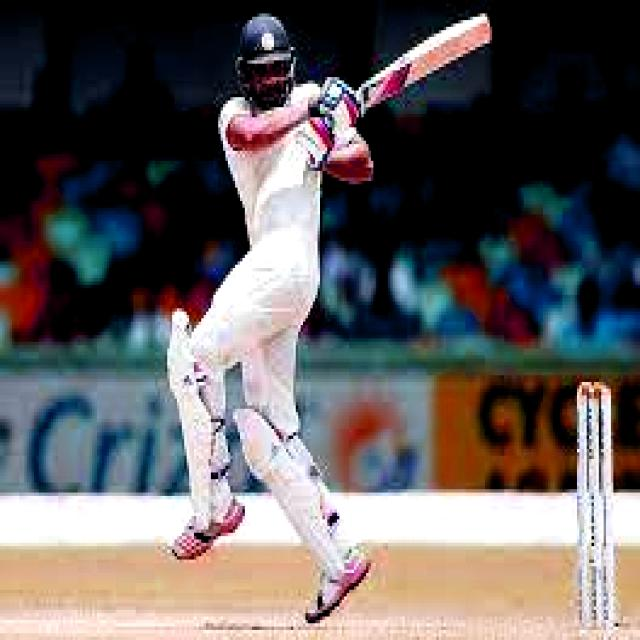toe: (468, 8, 494, 56)
